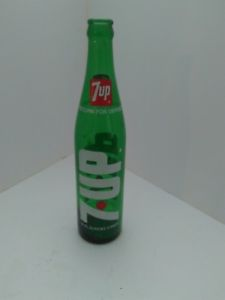Rec_Glass: (62, 16, 127, 248)
